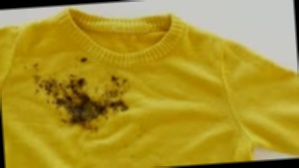earth: (40, 73, 132, 133)
